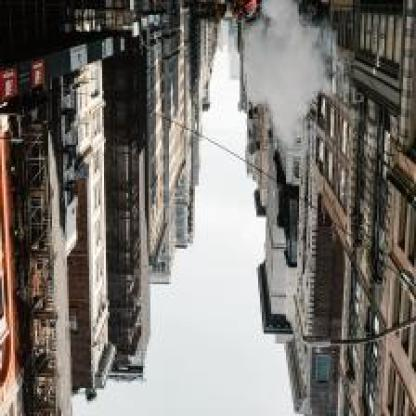Smoke: (224, 0, 349, 164)
